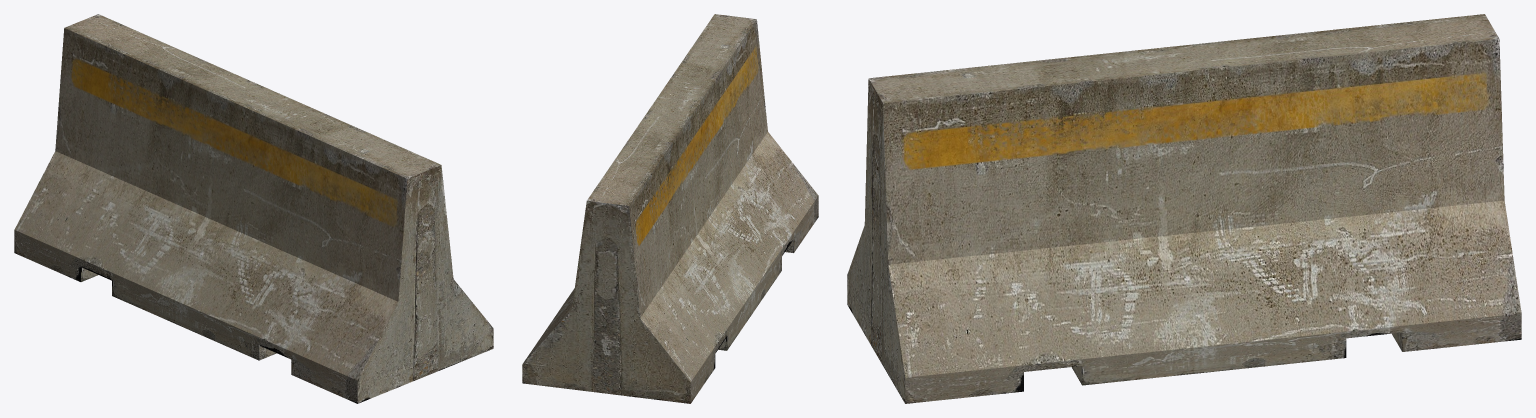
Rendered from Road_block_v1 (1).glb.
3 renders of one model, left to right at view 1: azimuth 30°, elevation 25°; view 2: azimuth 150°, elevation 25°; view 3: azimuth 270°, elevation 25°, orthographic. The views are drawn at different scales.
Visible parts, largest first — view 1: Road_block_v1 (1); view 2: Road_block_v1 (1); view 3: Road_block_v1 (1).
Part boxes in pixels (<box>): Road_block_v1 (1): <box>14,14,493,403</box>; Road_block_v1 (1): <box>522,14,818,403</box>; Road_block_v1 (1): <box>847,14,1521,403</box>.
Bounding box in the file's own units: 1.43 × 1.07 × 2.49.
Materials: 1 (1 with a texture image).
